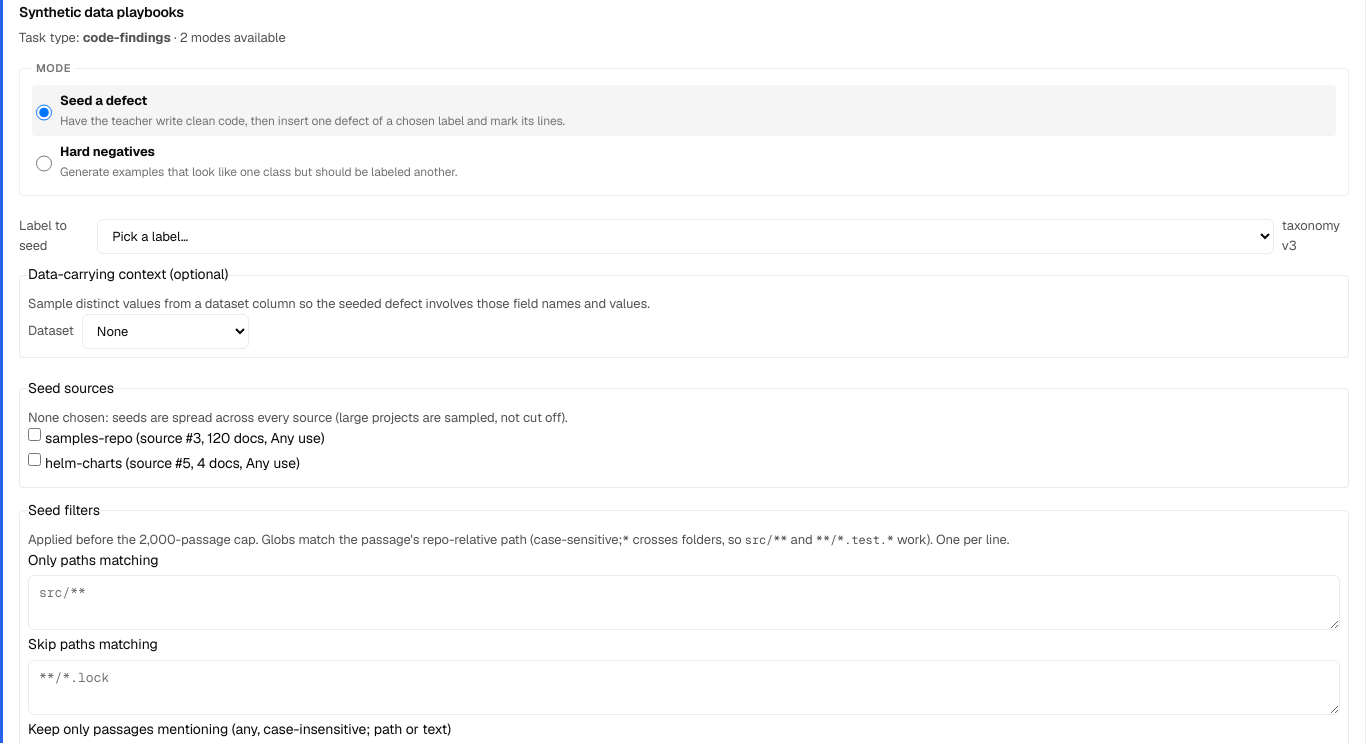
Test: code-findings seeded defect › sends label, prefilled attrs and data context as params, then shows rejects
Click the label with test id "playbook-picker-mode-seeded_defect" at (104, 101), box [32, 85, 1336, 136]
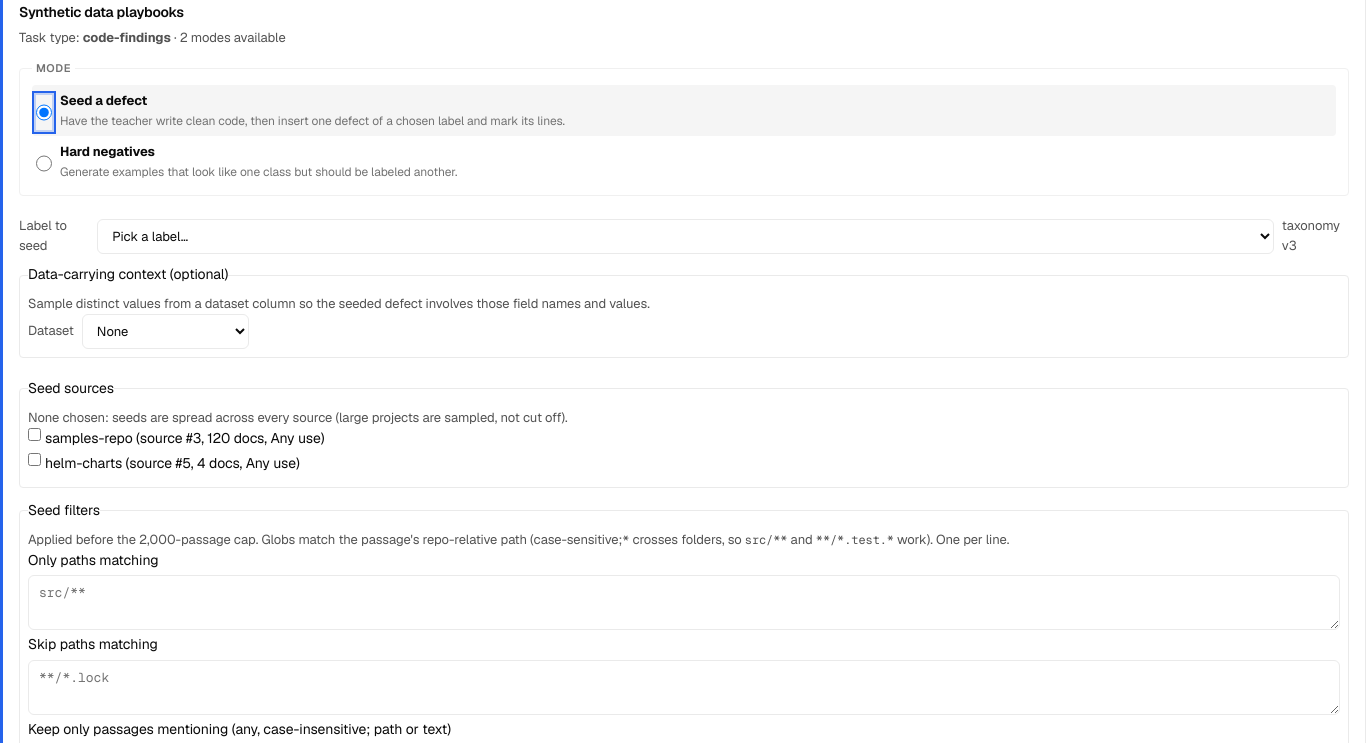
Select "Query injection (injection.query)" in the dropdown with test id "cf-label" at (686, 236), box [97, 219, 1274, 254]
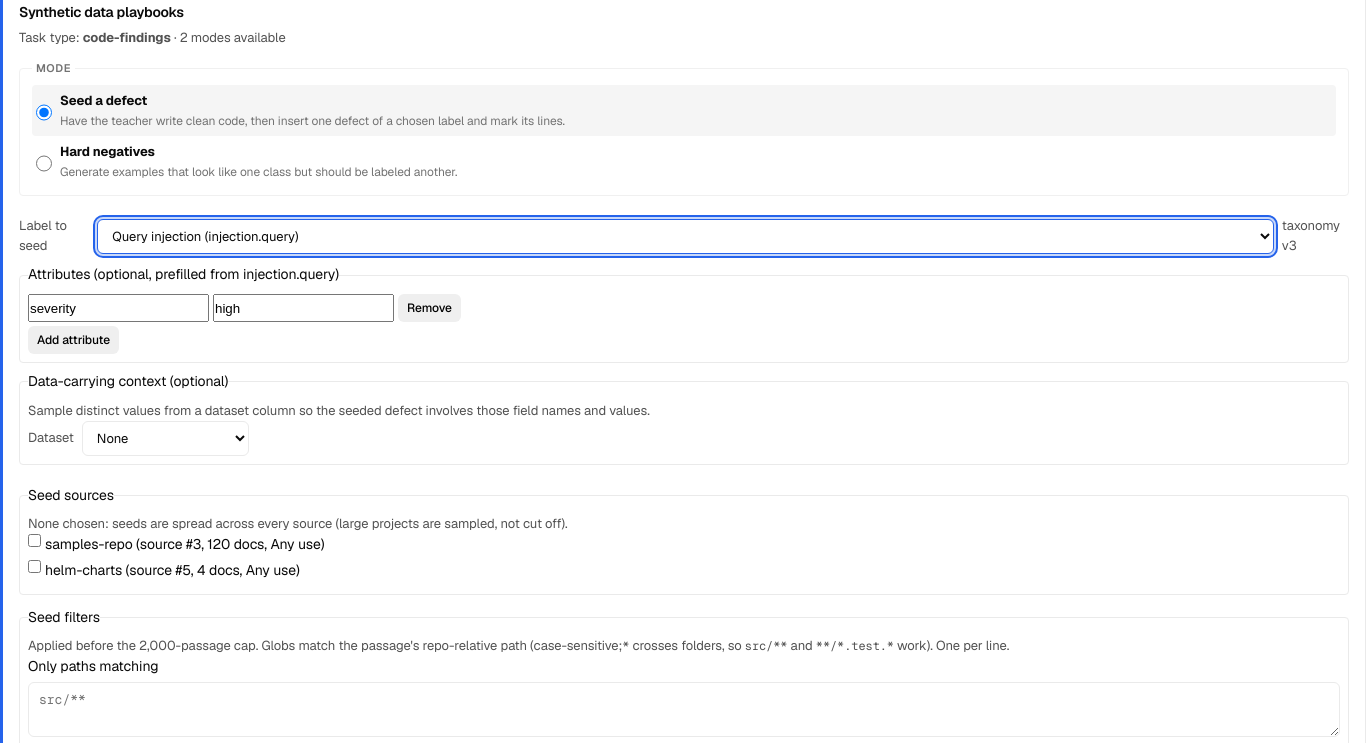
Check: the field showing "severity" is shown, box [28, 294, 209, 322]
Check: the field showing "high" is shown, box [213, 294, 394, 322]
Select "schemas (dataset #7)" in the dropdown with test id "cf-dataset" at (165, 438), box [82, 421, 249, 456]
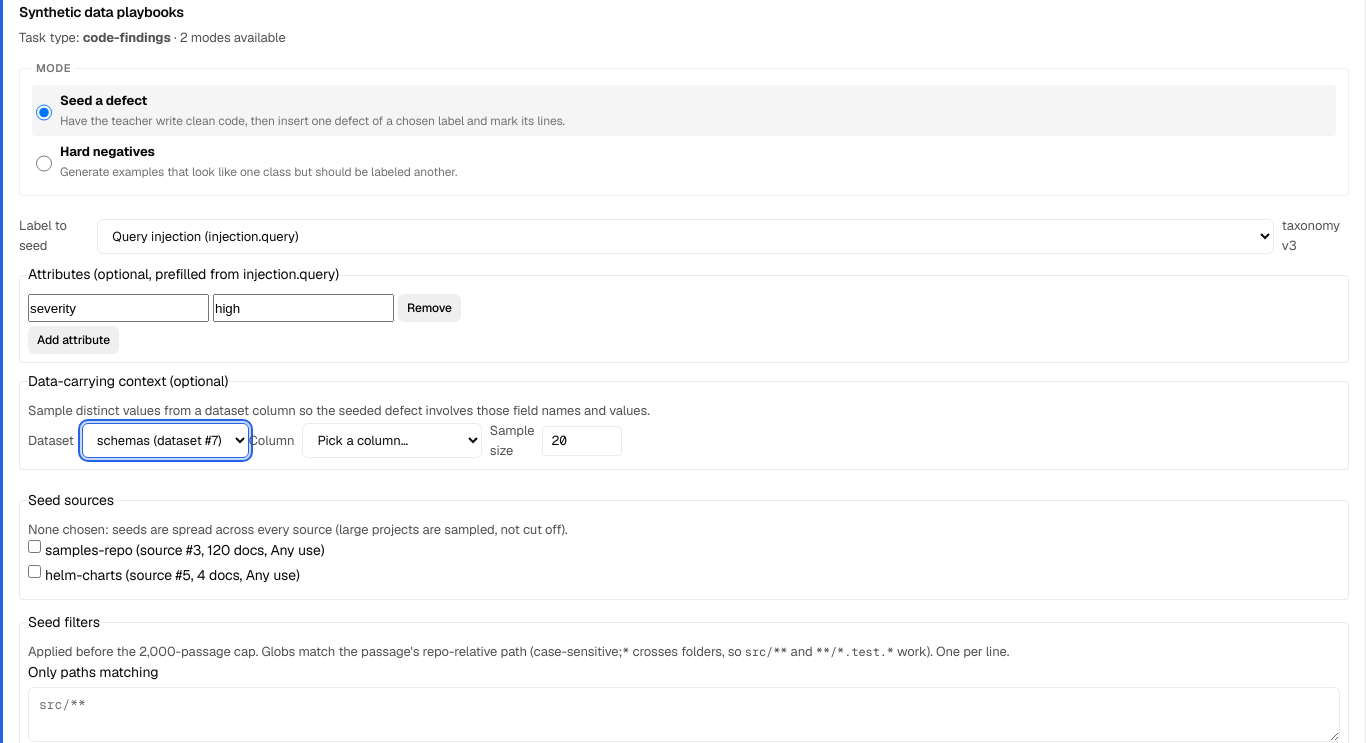
Select "field_name" in the dropdown with test id "cf-column" at (392, 441), box [302, 423, 482, 458]
(page scrolled)
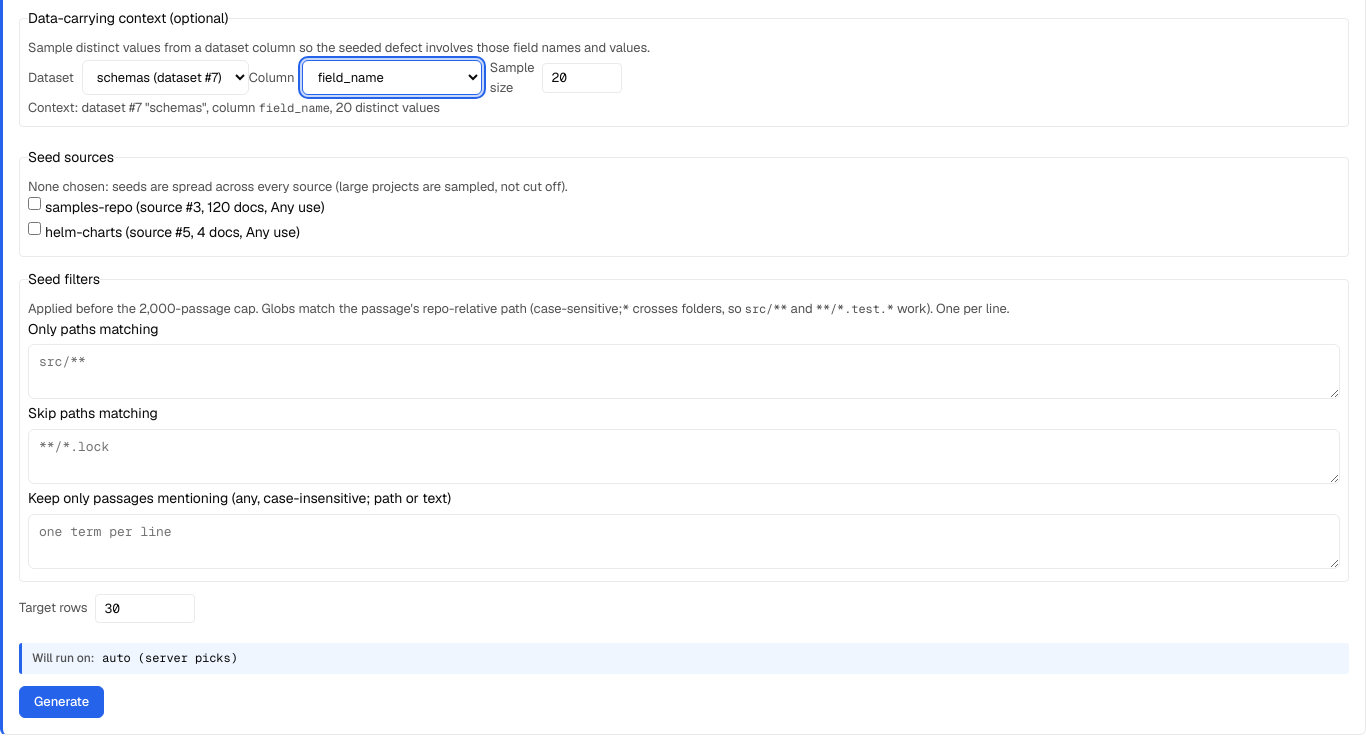
Check: the button with test id "playbook-picker-run" is enabled
Check: the element with test id "cf-context-provenance" shows "dataset #7 \"schemas\", column field_name", box [28, 99, 440, 116]
Click the button with test id "playbook-picker-run" at (62, 702), box [19, 686, 104, 718]
(page scrolled)
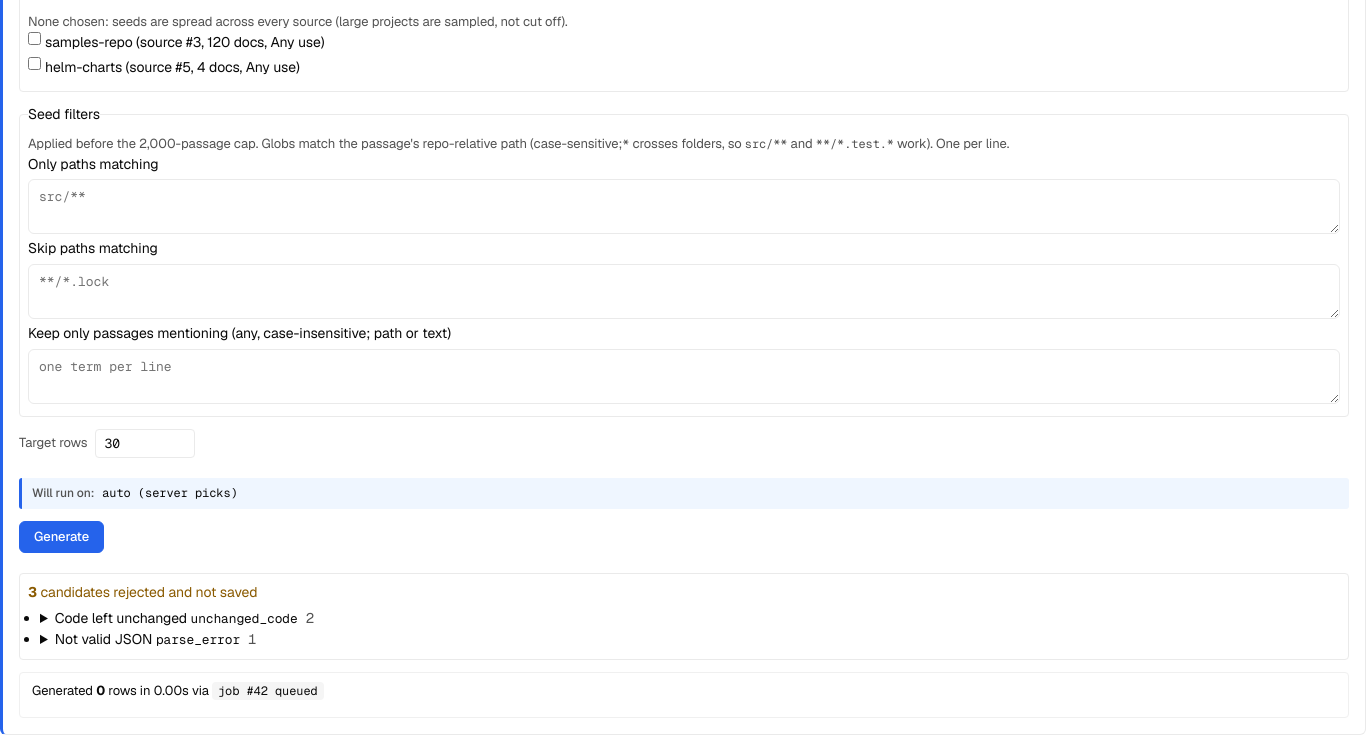
Check: the element with test id "synth-reject-summary" shows "3 candidates rejected", box [19, 573, 1349, 660]
Check: the list item with test id "synth-reject-unchanged_code" shows "2", box [306, 609, 314, 627]
